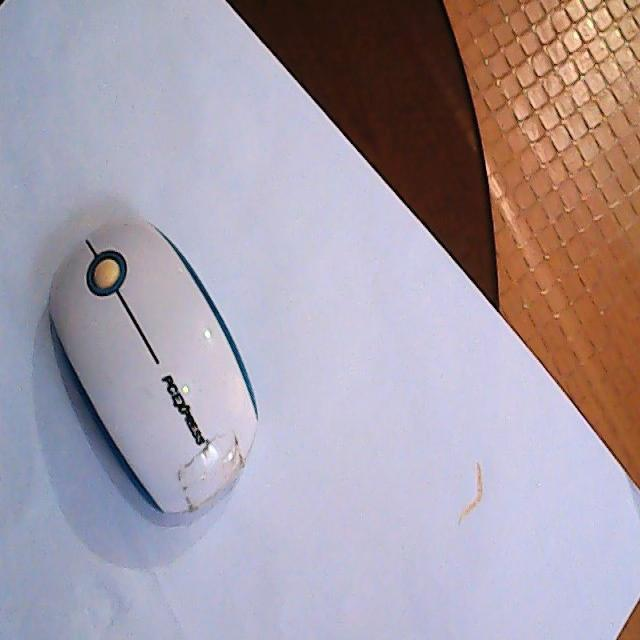Mouse: (46, 212, 261, 520)
